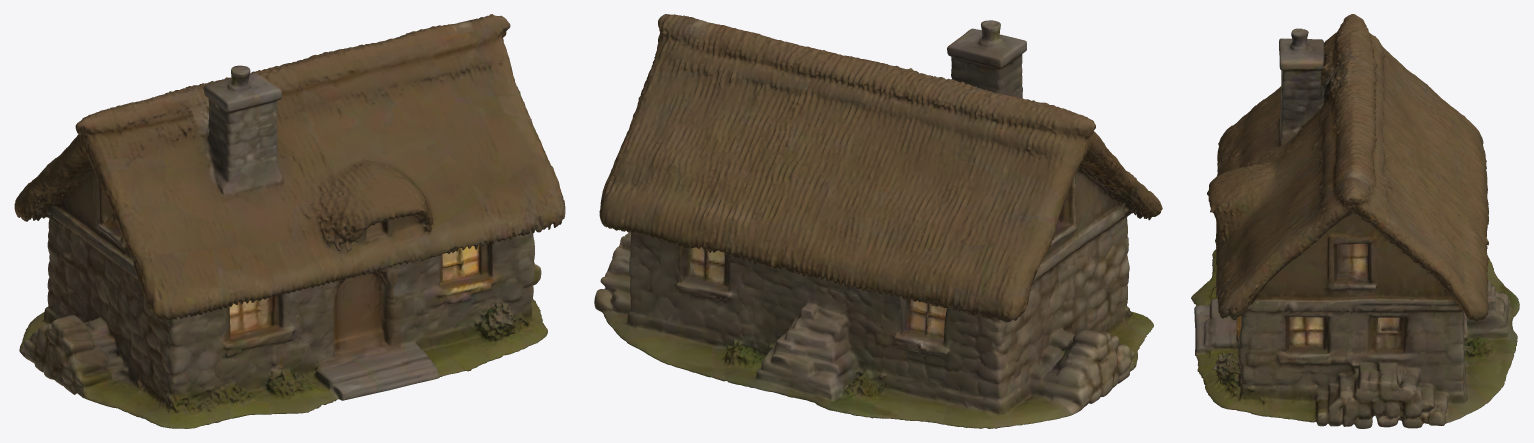
Rendered from building 6.glb.
The picture shows the model from 3 angles, left to right: view 1: azimuth 30°, elevation 25°; view 2: azimuth 150°, elevation 25°; view 3: azimuth 270°, elevation 25°; orthographic projection. The views are drawn at different scales.
Size of the model in its own units: 1.99 by 1.25 by 1.38.
1 material, 1 textured.
